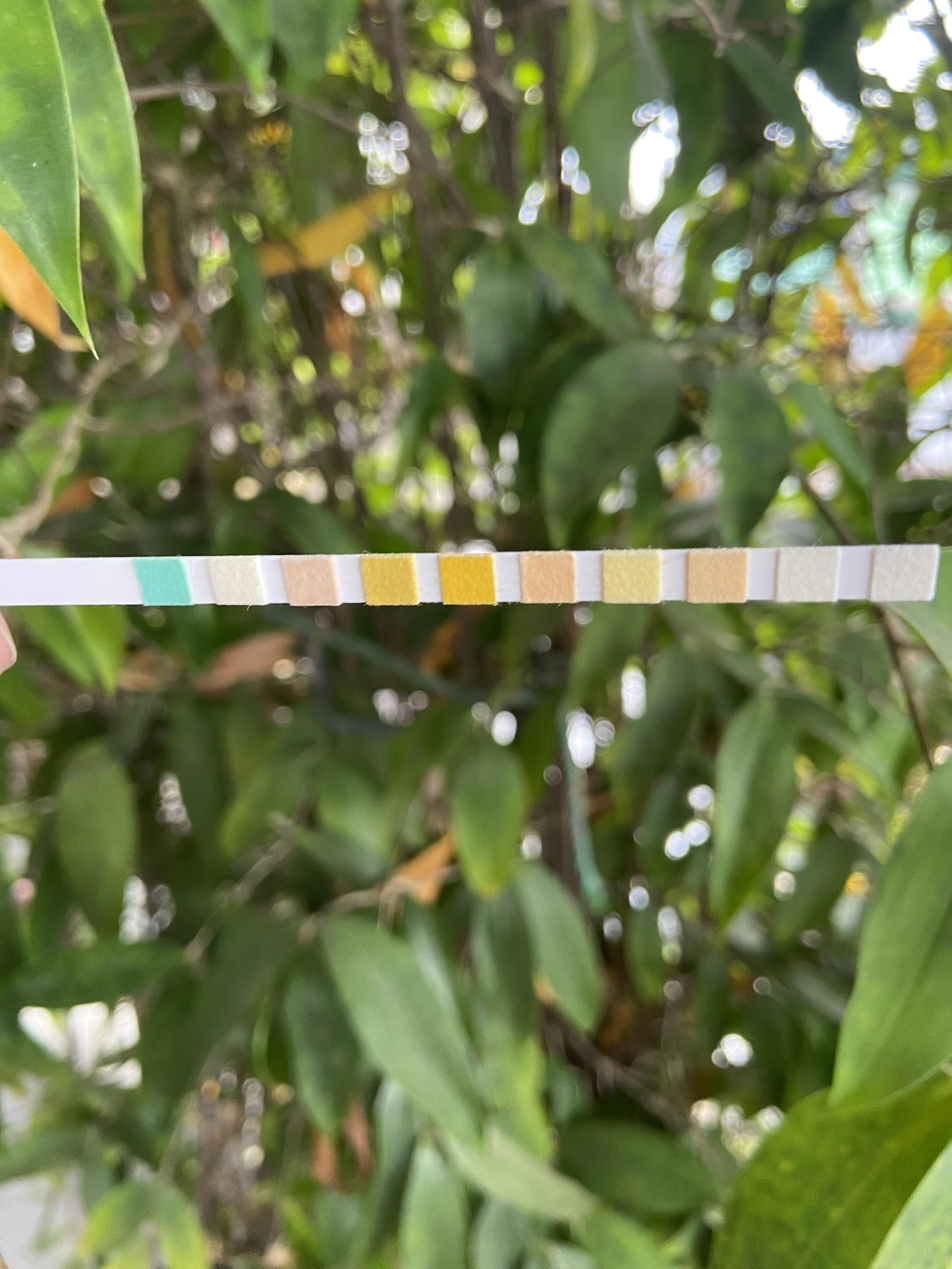Bilirubin: (218, 557, 257, 605)
Blood: (444, 556, 493, 604)
Glucose: (144, 559, 181, 605)
Ketone: (291, 556, 331, 605)
Leukocytes: (876, 547, 932, 600)
Nitrite: (780, 548, 836, 601)
Protein: (605, 551, 659, 603)
SpGravity: (368, 555, 413, 606)
Urobilinogen: (689, 550, 746, 603)
pH: (522, 553, 574, 602)
strip: (12, 545, 938, 608)
